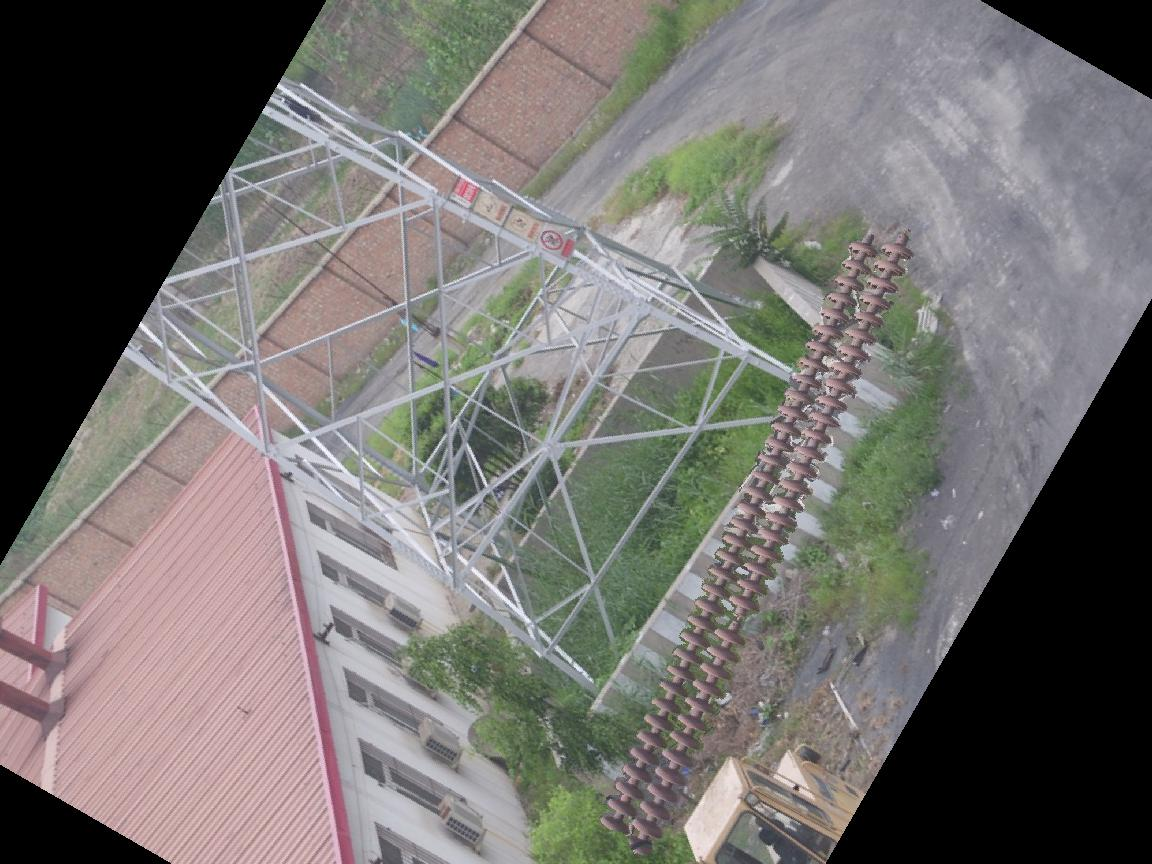insulator: (593, 234, 918, 851)
insulator_stringdrop: (710, 593, 762, 650)
